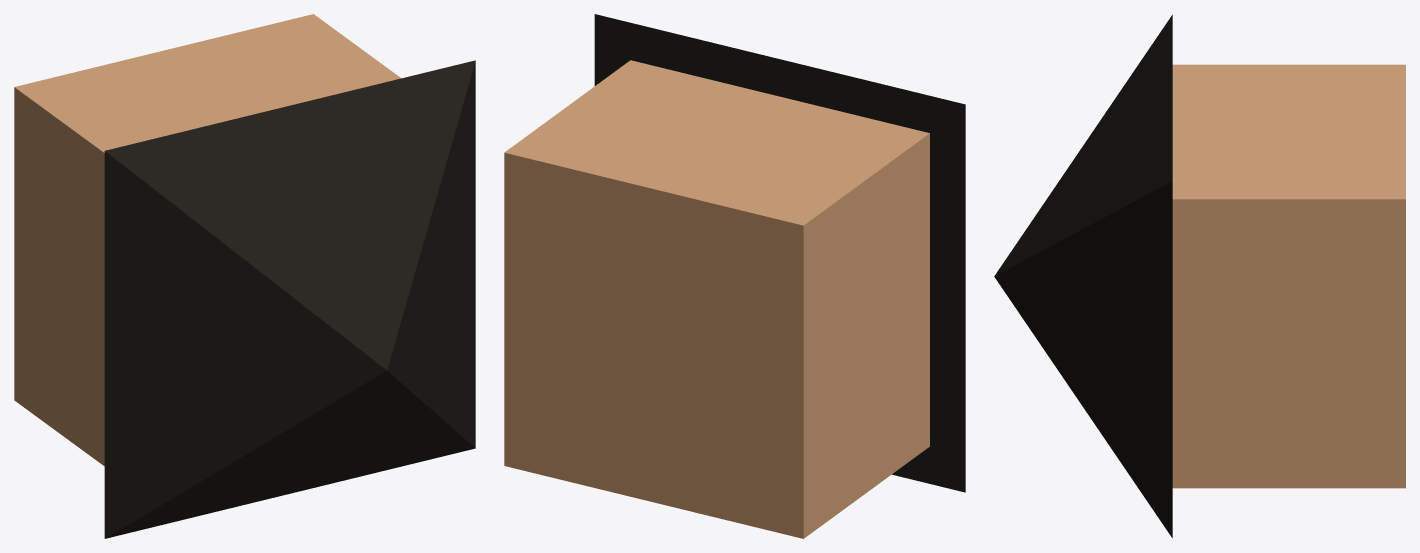
Rendered from house_full.glb.
3 renders of one model, left to right at view 1: azimuth 30°, elevation 25°; view 2: azimuth 150°, elevation 25°; view 3: azimuth 270°, elevation 25°, orthographic. The views are drawn at different scales.
Parts seen in each view (by area): view 1: Cube, HouseBase; view 2: HouseBase, Cube; view 3: HouseBase, Cube.
Part boxes in pixels (left/top/right/bottom): Cube: left=104, top=60, right=475, bottom=538; HouseBase: left=14, top=14, right=400, bottom=466; HouseBase: left=504, top=60, right=929, bottom=538; Cube: left=594, top=14, right=965, bottom=492; HouseBase: left=1172, top=64, right=1405, bottom=488; Cube: left=994, top=14, right=1172, bottom=538.
Bounding box in the file's own units: 1.64 × 1.64 × 1.71.
